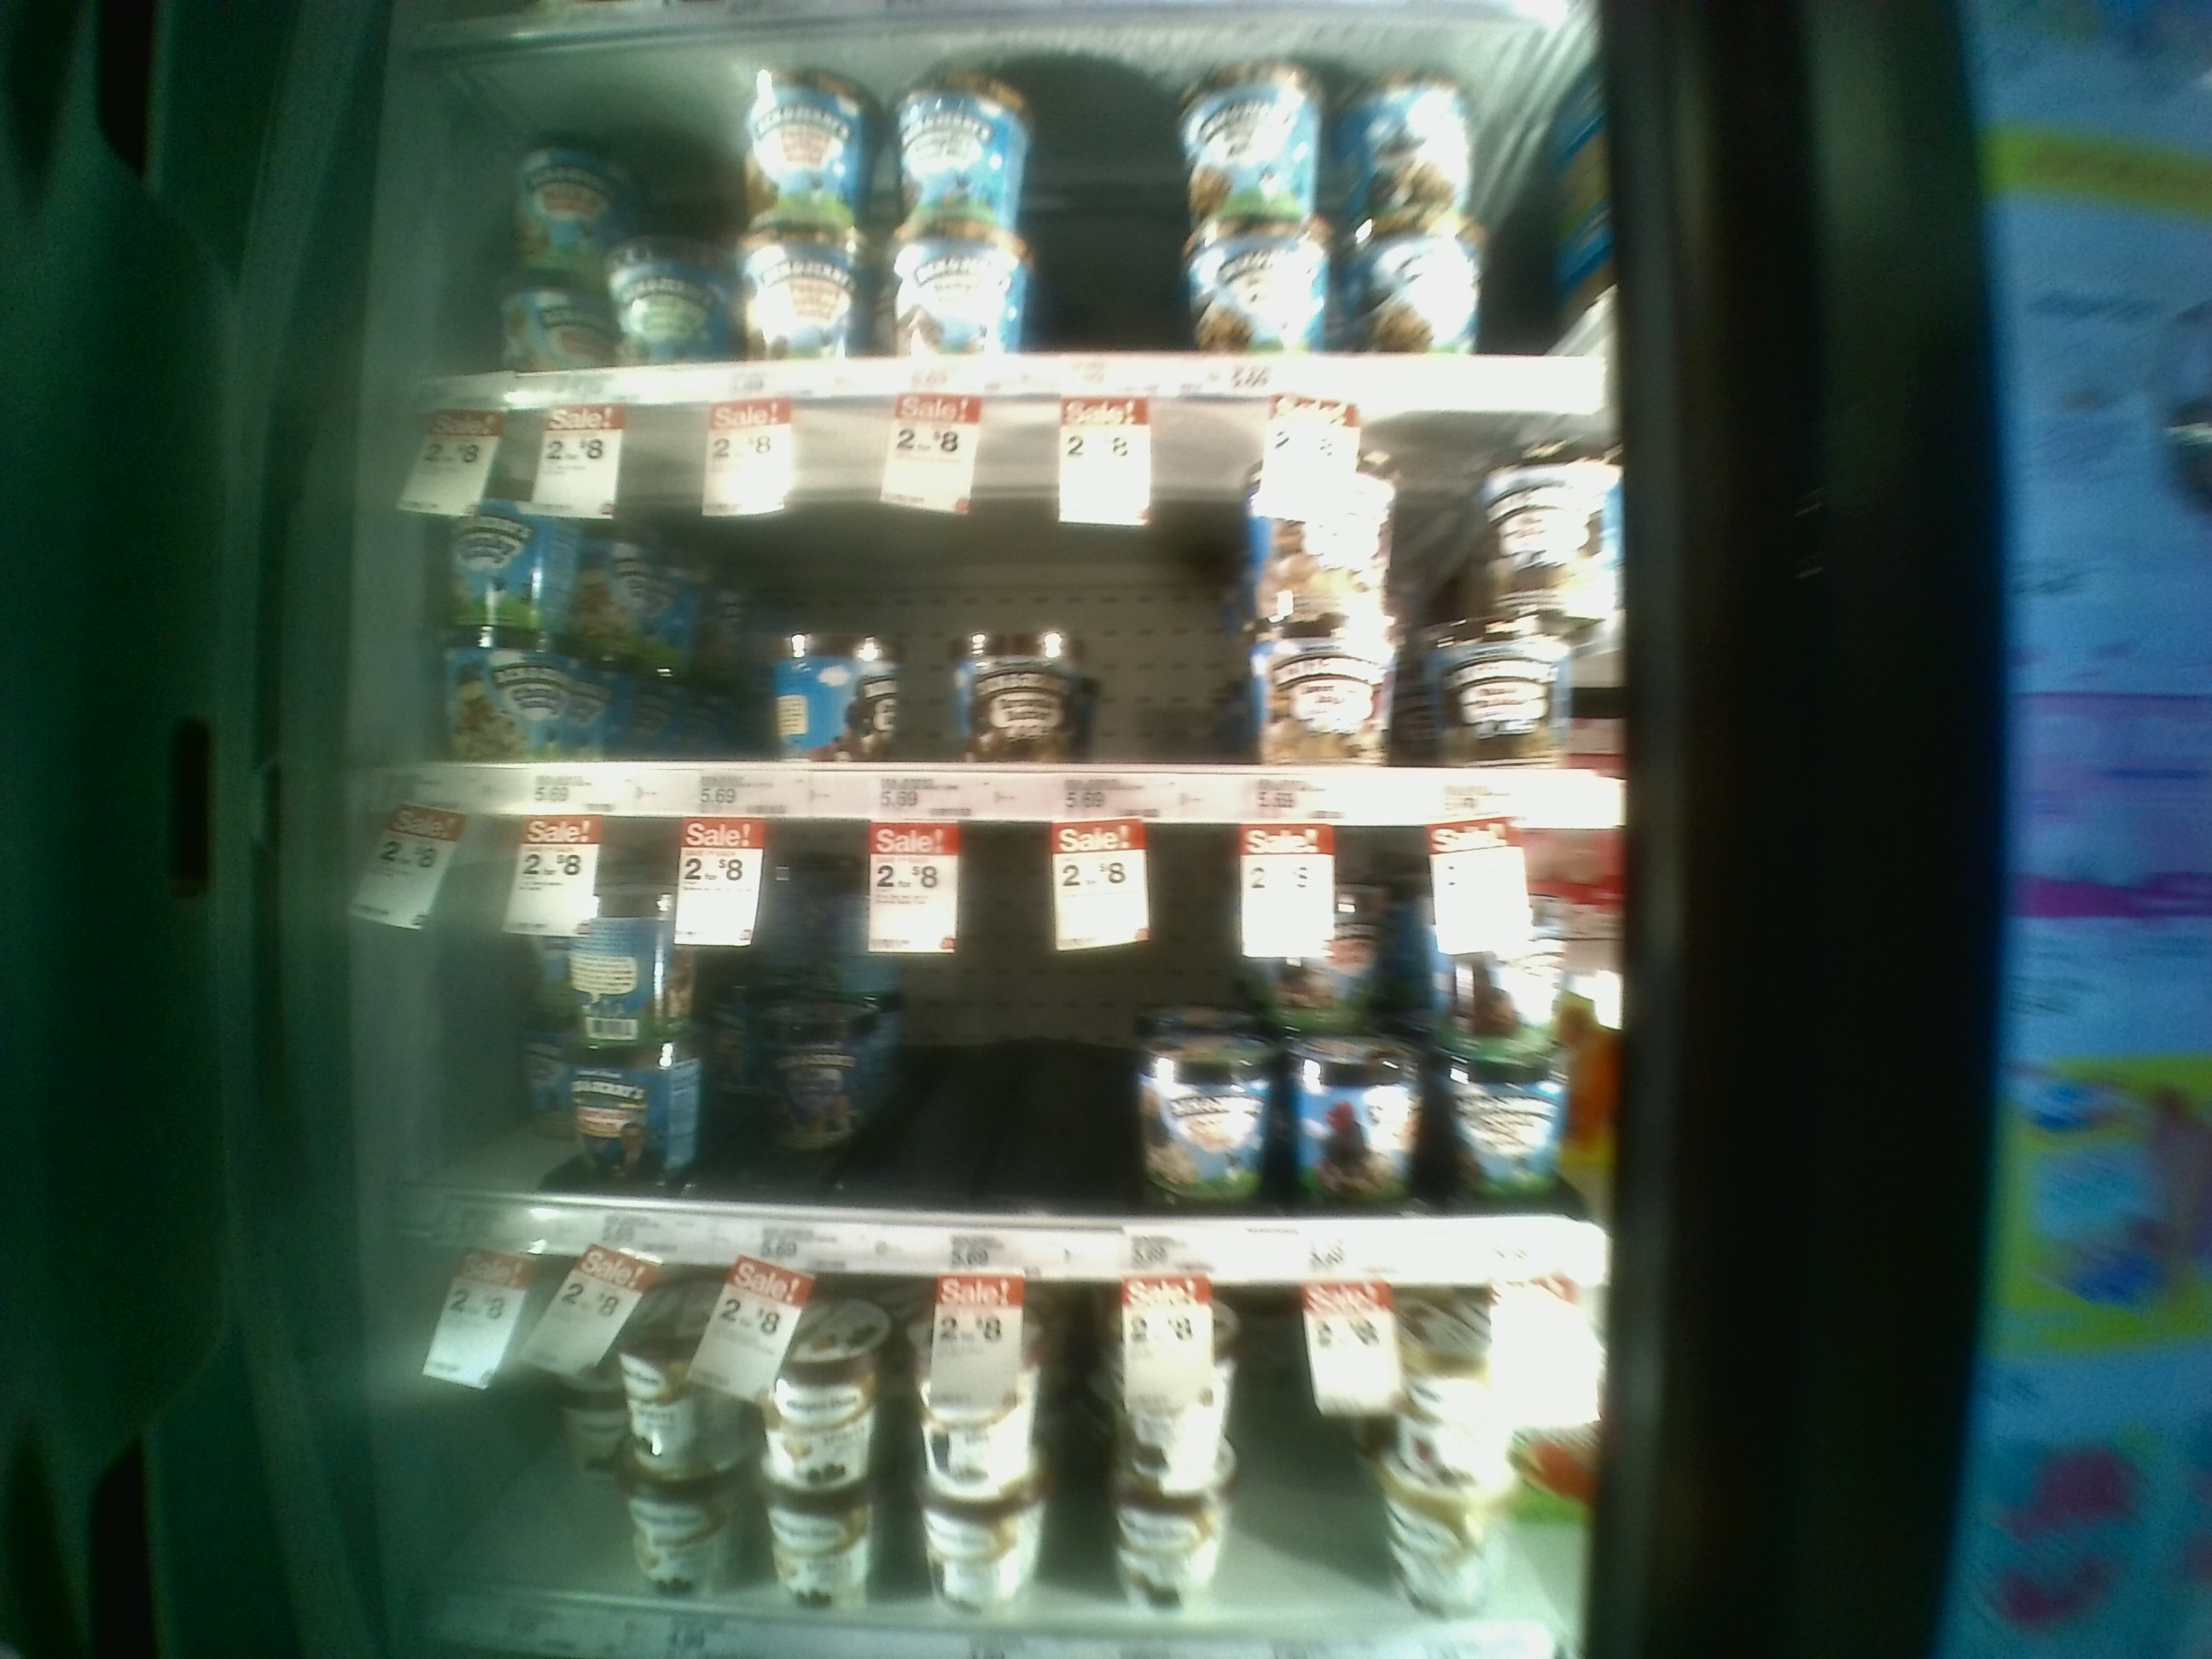shelf: (409, 812, 1609, 1281), (406, 408, 1622, 824)
